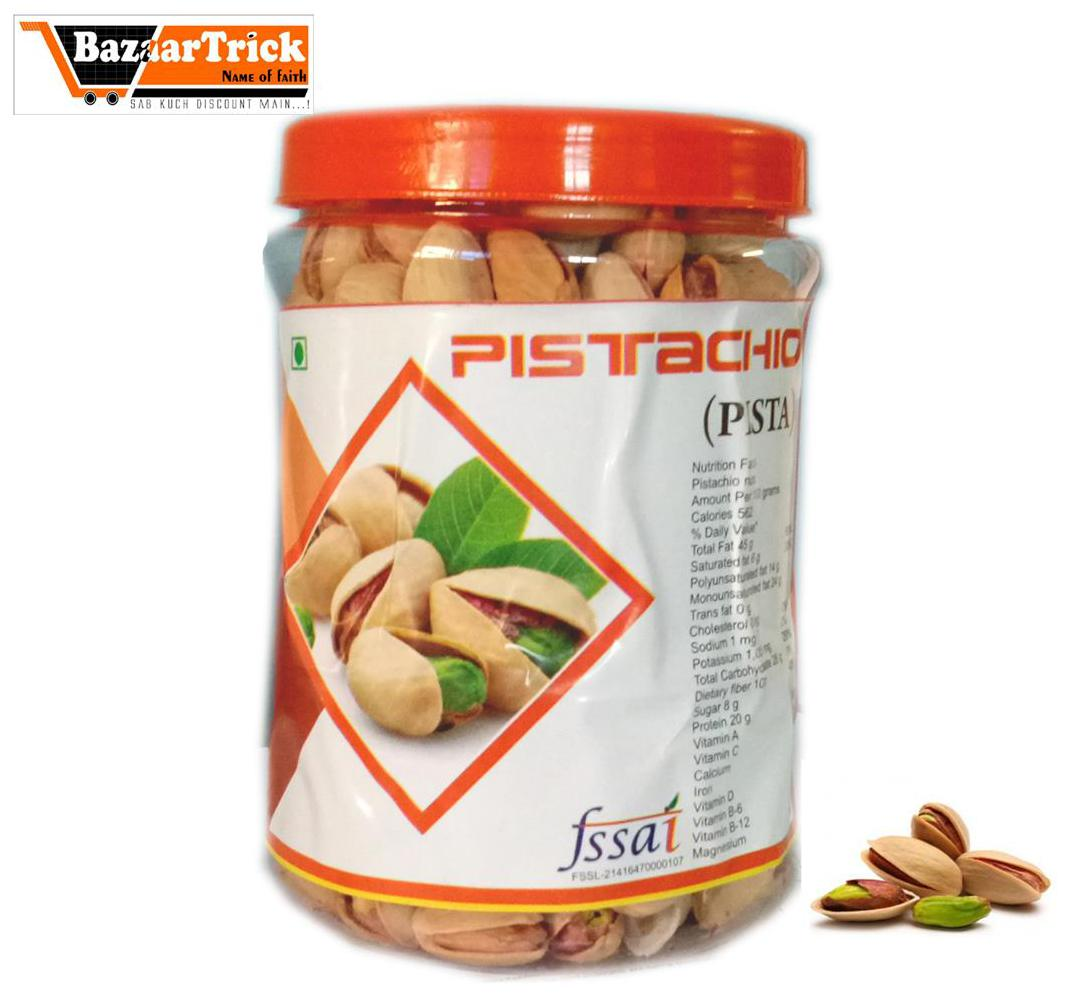JAR: (254, 100, 821, 977)
